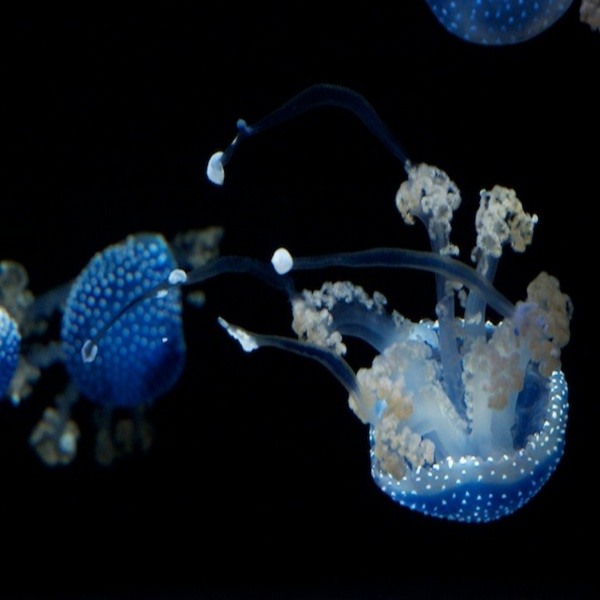Jellyfish: (0, 0, 600, 523), (427, 0, 599, 48)
